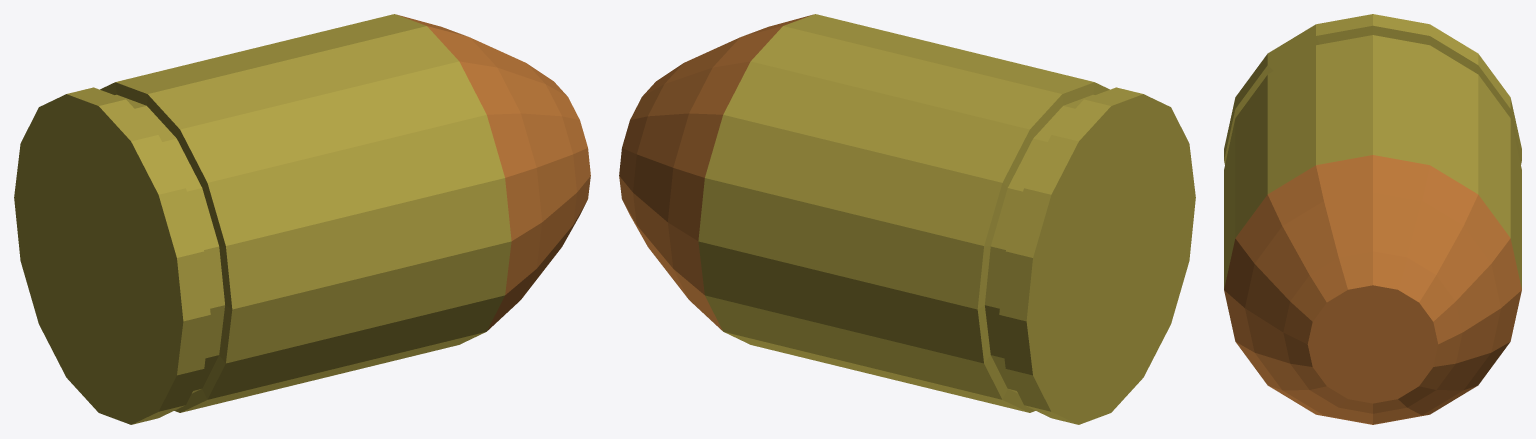
File: lowpoly_pistol_bullet.fbx
3 views of the same model, side by side, from view 1: azimuth 30°, elevation 25°; view 2: azimuth 150°, elevation 25°; view 3: azimuth 270°, elevation 25° (orthographic). The views are drawn at different scales.
Visible parts, largest first — view 1: Bullet; view 2: Bullet; view 3: Bullet.
Boxes of the visible parts, x1,y1,x2,y2 form: Bullet: (14,14,590,424); Bullet: (619,14,1195,424); Bullet: (1224,14,1521,424).
Bounding box in the file's own units: 32.12 × 20.69 × 20.69.
